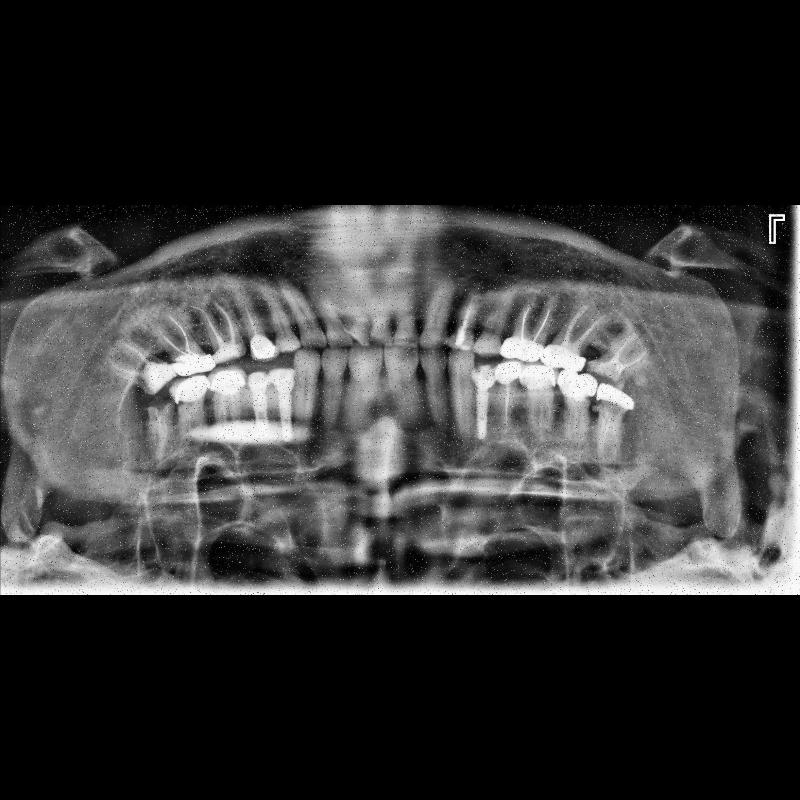osstem: (473, 388, 495, 438)
